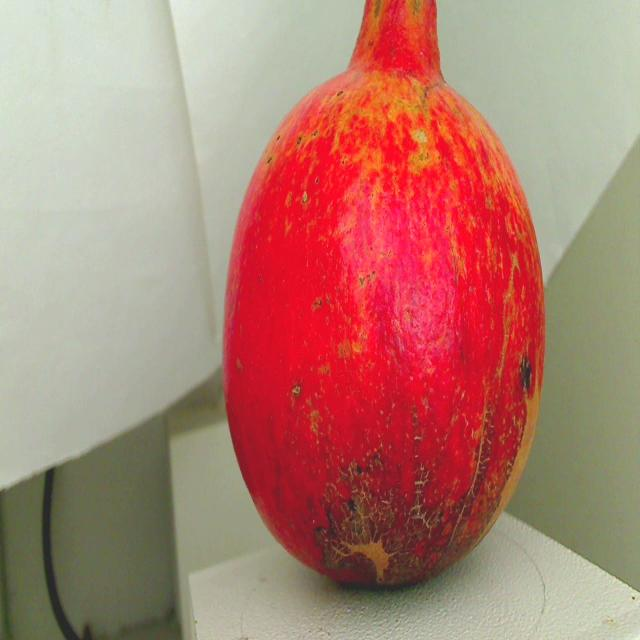pomegranate: (216, 0, 556, 601)
